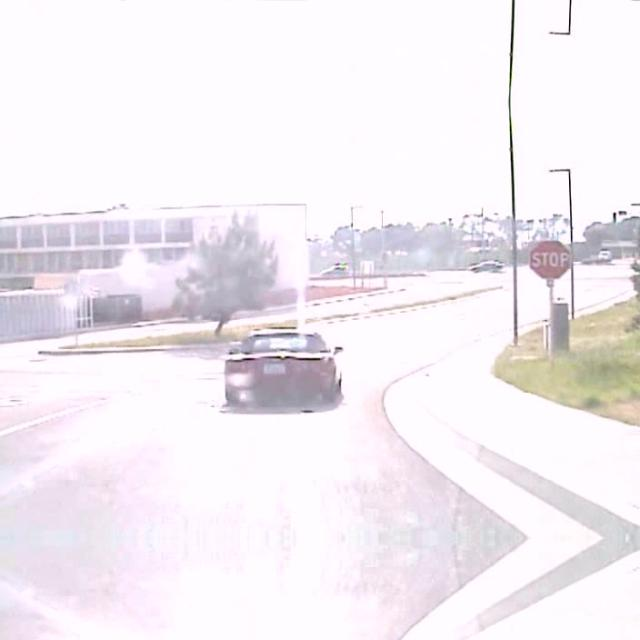stop: (529, 238, 569, 278)
